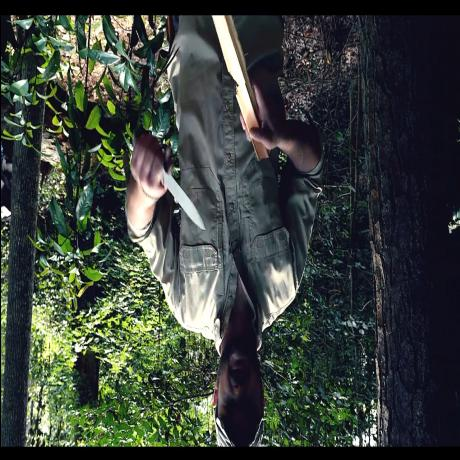1: (121, 7, 323, 459)
weapon: (161, 170, 207, 228)
